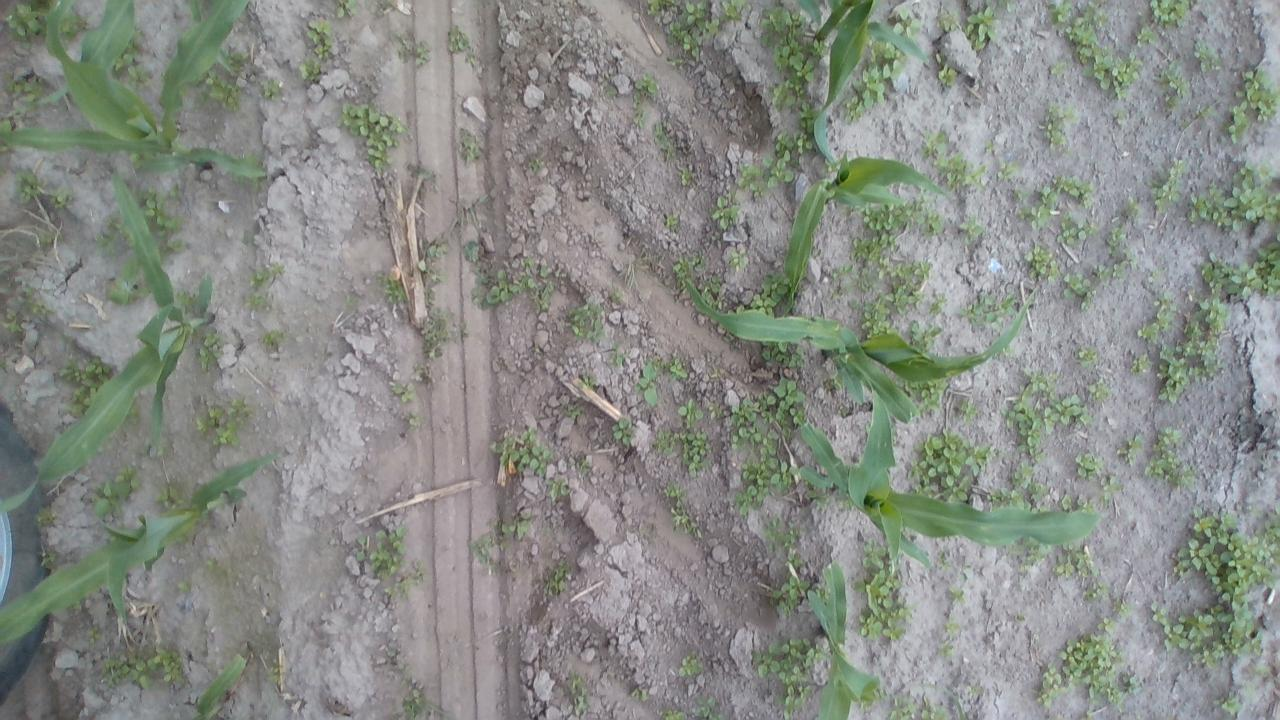Maize: (0, 178, 218, 514), (685, 274, 1040, 472), (786, 390, 1106, 576), (0, 452, 278, 648), (0, 0, 271, 180), (786, 147, 952, 311), (798, 0, 930, 160), (804, 562, 881, 720), (31, 1, 139, 102), (195, 653, 248, 719)
Weeds: (1151, 506, 1280, 676), (839, 201, 942, 334), (1052, 0, 1142, 98), (758, 4, 816, 152), (726, 395, 790, 520), (1036, 617, 1118, 707), (1158, 298, 1226, 406), (1012, 372, 1090, 466), (1182, 160, 1280, 230), (749, 630, 823, 720), (906, 429, 990, 508), (855, 533, 915, 641), (754, 512, 808, 612), (1198, 236, 1280, 298), (337, 102, 406, 170), (1013, 171, 1095, 228), (730, 129, 794, 202), (1228, 65, 1272, 149), (1145, 423, 1199, 489), (921, 130, 985, 185), (101, 648, 180, 692), (487, 428, 550, 482), (649, 428, 712, 478), (1059, 261, 1130, 305), (193, 396, 255, 444), (860, 40, 906, 102), (90, 462, 140, 516), (0, 286, 52, 336), (990, 464, 1040, 514), (955, 289, 1015, 329), (760, 376, 806, 427), (1146, 152, 1185, 212), (1140, 272, 1173, 341), (1100, 193, 1137, 252), (523, 256, 558, 315), (140, 185, 182, 234), (367, 524, 407, 572), (1042, 100, 1080, 148), (107, 251, 141, 304), (418, 308, 450, 364), (565, 302, 607, 344), (94, 210, 132, 256), (481, 267, 525, 306), (193, 74, 238, 112), (380, 558, 425, 596), (470, 518, 504, 568), (746, 273, 788, 312), (58, 354, 112, 384), (1000, 540, 1046, 573), (401, 678, 436, 720), (963, 10, 996, 54), (2, 1, 40, 39), (1150, 62, 1186, 102), (396, 30, 430, 70), (248, 257, 284, 293), (1052, 545, 1091, 578), (1114, 422, 1142, 467), (4, 78, 41, 112), (536, 558, 569, 596), (670, 23, 704, 58), (1190, 36, 1220, 75), (638, 359, 661, 409), (1023, 245, 1058, 277), (563, 671, 589, 714), (1148, 0, 1192, 25), (419, 238, 448, 275), (1053, 218, 1091, 246), (760, 342, 804, 366), (952, 212, 986, 243), (308, 15, 332, 58), (709, 195, 740, 228), (456, 127, 481, 167), (906, 382, 944, 408), (199, 334, 223, 375), (1181, 104, 1211, 136), (906, 320, 941, 346), (375, 272, 402, 305), (16, 170, 43, 203), (546, 474, 573, 507), (889, 9, 924, 34), (916, 689, 943, 720), (938, 620, 963, 652), (570, 454, 596, 484), (714, 0, 749, 22), (69, 384, 92, 417), (928, 7, 956, 34), (444, 25, 470, 54), (650, 124, 675, 154), (670, 508, 696, 536), (660, 482, 690, 506), (502, 514, 534, 536), (694, 693, 720, 720), (1126, 349, 1154, 374), (945, 686, 965, 720), (696, 276, 722, 302), (675, 652, 700, 679), (243, 289, 270, 314), (1214, 689, 1242, 713), (886, 696, 914, 720), (722, 247, 749, 271), (610, 418, 633, 446), (676, 2, 706, 23), (257, 328, 282, 353), (224, 46, 248, 72), (1081, 577, 1106, 601), (678, 397, 702, 422), (1084, 376, 1111, 398), (1060, 492, 1098, 507), (1122, 666, 1142, 694), (154, 487, 182, 507), (258, 75, 280, 100), (51, 184, 72, 210), (821, 376, 843, 400), (843, 94, 861, 122), (62, 13, 84, 35), (1097, 470, 1119, 491), (929, 292, 951, 313), (609, 342, 628, 366), (390, 382, 414, 401), (158, 238, 186, 254), (334, 0, 360, 17), (675, 164, 695, 186), (297, 57, 317, 79), (1076, 454, 1098, 474), (1110, 600, 1132, 620), (40, 546, 56, 573), (951, 400, 972, 420), (938, 66, 958, 87), (34, 504, 56, 523), (1134, 25, 1160, 41), (632, 92, 644, 126), (128, 68, 153, 84), (265, 659, 281, 684), (944, 586, 969, 602), (668, 355, 686, 377), (660, 705, 686, 720), (645, 0, 672, 14), (700, 15, 719, 34), (411, 365, 429, 384), (568, 402, 584, 423), (636, 72, 654, 90), (709, 402, 726, 421), (462, 240, 478, 260), (1078, 346, 1098, 362), (356, 536, 368, 562), (661, 216, 680, 232), (998, 160, 1014, 179), (114, 56, 133, 72), (982, 138, 998, 156), (1046, 62, 1068, 75), (1178, 281, 1197, 296), (938, 550, 948, 578), (174, 578, 190, 595), (84, 627, 100, 644), (633, 686, 650, 702), (672, 264, 689, 280), (401, 413, 418, 428), (526, 156, 540, 173), (679, 250, 697, 263), (610, 287, 626, 301), (1009, 185, 1023, 201), (710, 367, 726, 381), (344, 294, 358, 308), (584, 374, 598, 388), (1008, 614, 1026, 624), (666, 57, 684, 66), (1077, 710, 1093, 720), (968, 684, 984, 694), (206, 558, 219, 570), (2, 119, 14, 130)
